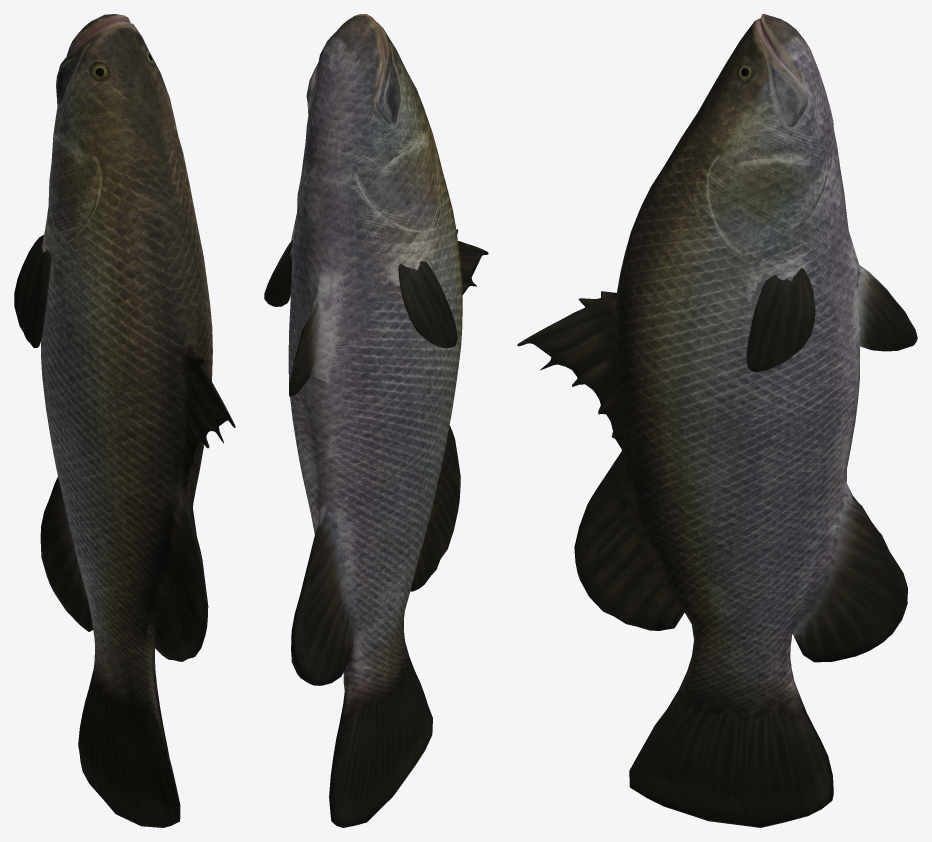
The model's file is BarramundiFish.gltf.
The picture shows the model from 3 angles, left to right: view 1: azimuth 30°, elevation 25°; view 2: azimuth 150°, elevation 25°; view 3: azimuth 270°, elevation 25°; orthographic projection.
Parts seen in each view (by area): view 1: BarramundiFish; view 2: BarramundiFish; view 3: BarramundiFish.
Boxes of the visible parts, left/top/right/bottom form: BarramundiFish: left=14, top=14, right=235, bottom=827; BarramundiFish: left=264, top=14, right=488, bottom=827; BarramundiFish: left=517, top=14, right=917, bottom=827.
Size of the model in its own units: 1.14 by 5.14 by 2.3.
